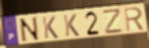2: (84, 11, 101, 37)
K: (41, 15, 60, 40), (62, 13, 81, 38)
N: (18, 16, 42, 44)
R: (123, 6, 146, 33)
Z: (102, 7, 124, 35)
